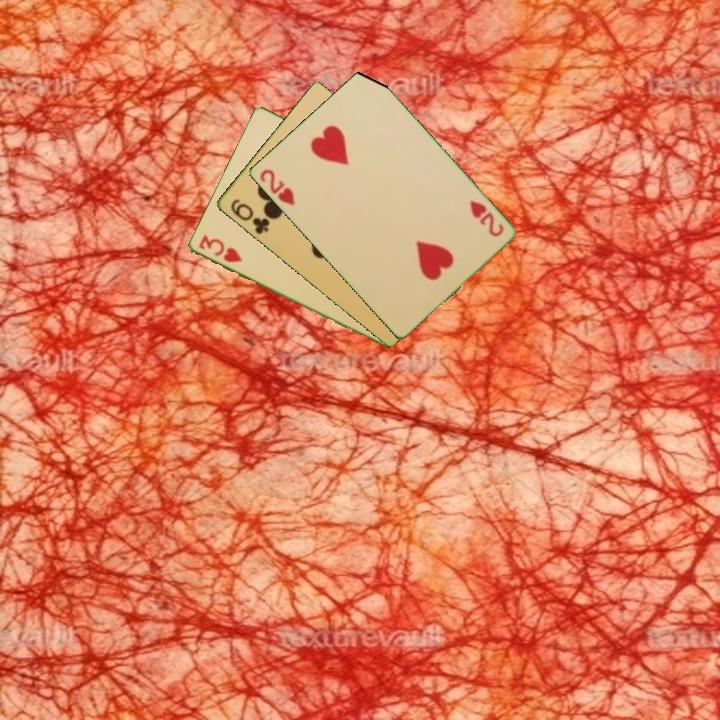2h: (256, 165, 298, 208), (466, 197, 506, 240)
3h: (195, 231, 245, 266)
6c: (226, 195, 272, 237)
